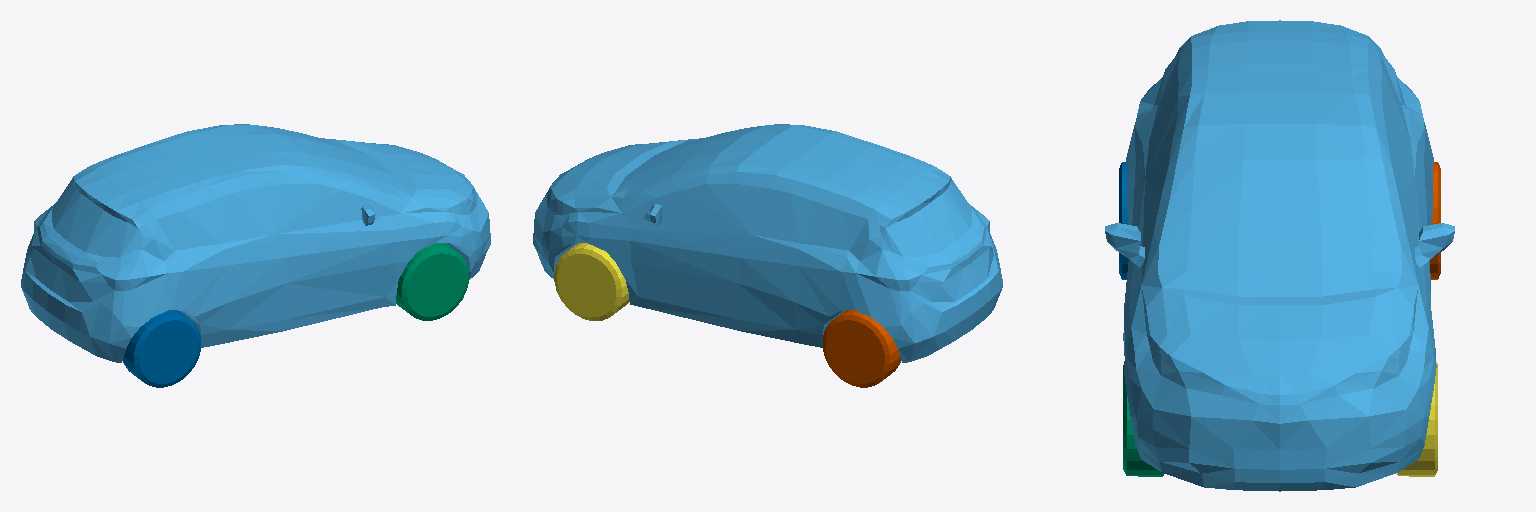
--- Facts derived from the render (not from the file) ---
The picture shows the robot from 3 angles, left to right: view 1: azimuth 30°, elevation 25°; view 2: azimuth 150°, elevation 25°; view 3: azimuth 270°, elevation 25°; orthographic projection.
Robot: zoe — 15 links, 14 joints (7 continuous, 7 fixed); root link zoe_odom_origin; default pose: all joints at 0.
Links seen in each view (by area): view 1: chassis, rear_right_wheel, front_right_wheel; view 2: chassis, rear_left_wheel, front_left_wheel; view 3: chassis, front_left_wheel, front_right_wheel, rear_left_wheel, rear_right_wheel.
Boxes of the visible links, x1,y1,x2,y2 form: chassis: (21,124,490,362); rear_right_wheel: (123,310,200,387); front_right_wheel: (396,243,468,320); chassis: (533,124,1002,362); rear_left_wheel: (823,310,900,387); front_left_wheel: (554,243,628,320); chassis: (1105,20,1454,491); front_left_wheel: (1397,362,1437,476); front_right_wheel: (1123,365,1163,476); rear_left_wheel: (1430,162,1440,279); rear_right_wheel: (1119,162,1128,279).
Size in the robot's own frame: 4.07 by 1.95 by 1.57 metres.
Meshes: 2 distinct files referenced, 5 mesh visuals loaded (2 Collada DAE).

robot.urdf — zoe:
<?xml version="1.0"?>
<robot name="zoe">

  <gazebo reference="front_left_wheel">
    <mu1>1.5</mu1>
    <mu2>1.5</mu2>
    <minDepth>0.02</minDepth>
    <kp>1e8</kp>
  </gazebo>
  <gazebo reference="front_right_wheel">
    <mu1>1.5</mu1>
    <mu2>1.5</mu2>
    <minDepth>0.02</minDepth>
    <kp>1e8</kp>
  </gazebo>
  <gazebo reference="rear_left_wheel">
    <mu1>1.5</mu1>
    <mu2>1.5</mu2>
    <minDepth>0.02</minDepth>
    <kp>1e8</kp>
  </gazebo>
  <gazebo reference="rear_right_wheel">
    <mu1>1.5</mu1>
    <mu2>1.5</mu2>
    <minDepth>0.02</minDepth>
    <kp>1e8</kp>
  </gazebo>

   <link name="base_link">
      <inertial>
         <mass value="0.1"/>
         <origin xyz="0 0 0"/>
         <inertia ixx="0.000904524377773" ixy="0.0" ixz="0.0" iyy="0.000904524377773" iyz="0.0" izz="0.0001423828125"/>
      </inertial>
   </link>

  <joint name="base_link_chassis_joint" type="continuous">
    <origin rpy="0 0 0" xyz="-1.95 0 0"/>
    <parent link="base_link"/>
    <child link="chassis"/>
            <axis xyz="1 0 0"/>
  </joint>

  <link name="chassis" >
            <inertial>
                  <mass value="880.3"/>
      <origin rpy=" 0 0 0" xyz="0 0 0.534"/>
      <inertia ixx="987.0" ixy="0.0" ixz="0.0" iyy="274.0" iyz="0.0" izz="1102.0"/>
    </inertial>

    <visual name="chassis_visual">
                  <origin rpy="0 0 1.570796327" xyz="0 0 0"/>
      <geometry>
            <mesh filename="package://experimental_package/models/zoe/meshes/ZoeWheelsLess.dae"/>
            </geometry>
    </visual>
            <!--<collision>
                  <origin rpy="0 0 1.570796327" xyz="0 0 0"/>
      <geometry>
            <mesh filename="package://experimental_package/models/zoe//meshes/ZoeWheelsLess.dae"/>
            </geometry>
    </collision>-->
  </link>

  <link name="front_right_wheel">
    <inertial>
      <mass value="10"/>
      <inertia ixx="0.58631238" ixy="0.0" ixz="0.0" iyy="0.33552910" iyz="0.0" izz="0.33552910"/>
    </inertial>
    <collision name="front_right_wheel_collision">
      <origin rpy="0 0 0" xyz="0 0 0"/>
                  <geometry>
                        <sphere radius="0.31045"/>
                  </geometry>
    </collision>
            <visual name="front_right_wheel_visual">
                  <origin rpy="1.57 0 0" xyz="0 0.125 0"/>
                  <geometry>
                        <mesh filename="package://experimental_package/models/zoe/meshes/car_wheel.dae"/>
                  </geometry>
            </visual>
  </link>

  <link name="front_left_wheel">
            <inertial>
                  <mass value="10"/>
                  <inertia ixx="0.58631238" ixy="0.0" ixz="0.0" iyy="0.33552910" iyz="0.0" izz="0.33552910"/>
            </inertial>
            <collision name="front_left_wheel_collision">
                  <origin rpy="0 0 0" xyz="0 0 0"/>
                  <geometry>
                        <sphere radius="0.31045"/>
                  </geometry>
            </collision>
            <visual name="front_left_wheel_visual">
                  <origin rpy="1.57 0 0" xyz="0 0.125 0"/>
                  <geometry>
                        <mesh filename="package://experimental_package/models/zoe/meshes/car_wheel.dae"/>
                  </geometry>
            </visual>
  </link>

  <link name="rear_right_wheel">
    <inertial>
      <mass value="10"/>
      <inertia ixx="0.58631238" ixy="0.0" ixz="0.0" iyy="0.33552910" iyz="0.0" izz="0.33552910"/>
    </inertial>
    <collision name="rear_right_wheel_collision">
      <origin rpy="0 0 0" xyz="0 0 0"/>
                  <geometry>
                        <sphere radius="0.31045"/>
                  </geometry>
    </collision>
    <visual name="rear_right_wheel_visual">
      <origin rpy="0.0 1.570700 -1.570700" xyz="0.0 0.1 0.0"/>
      <geometry>
        <mesh filename="package://experimental_package/models/zoe/meshes/car_wheel.dae"/>
      </geometry>
    </visual>
  </link>

  <link name="rear_left_wheel">
    <inertial>
      <mass value="10"/>
      <inertia ixx="0.58631238" ixy="0.0" ixz="0.0" iyy="0.33552910" iyz="0.0" izz="0.33552910"/>
    </inertial>
    <collision name="rear_left_wheel_collision">
      <origin rpy="0 0 0" xyz="0 0 0"/>
                  <geometry>
                        <sphere radius="0.31045"/>
                  </geometry>
    </collision>
    <visual name="rear_left_wheel_visual">
      <origin rpy="0.000000 1.570700 1.570700" xyz="0.0 -0.1 0.0"/>
      <geometry>
        <mesh filename="package://experimental_package/models/zoe/meshes/car_wheel.dae"/>
      </geometry>
    </visual>
  </link>


      <joint name="rear_left_spinning" type="continuous">
            <origin rpy="0 0 0" xyz="-3.334 0.755 0.31045"/>
            <parent link="base_link"/>
            <child link="rear_left_wheel"/>
            <axis xyz="0.0 1.0 0.0"/>
      </joint>

      <joint name="rear_right_spinning" type="continuous">
            <origin rpy="0 0 0" xyz="-3.334 -0.755 0.31045"/>
            <parent link="base_link"/>
            <child link="rear_right_wheel"/>
            <axis xyz="0.0 1.0 0.0"/>
      </joint>

      <joint name="front_right_spinning" type="continuous">
            <origin rpy="0 0 0" xyz="0 0.0 0"/>
            <parent link="right_axis"/>
            <child link="front_right_wheel"/>
            <axis xyz="0 1 0"/>
      </joint>
      <joint name="front_left_spinning" type="continuous">
            <origin rpy="0 0 0" xyz="0 0.0 0"/>
            <parent link="left_axis"/>
            <child link="front_left_wheel"/>
            <axis xyz="0 1 0"/>
      </joint>

      <joint name="right_steering" type="continuous">
            <origin xyz="-0.746 -0.755 0.31045" rpy="0 0 0"/>
            <parent link="base_link"/>
            <child link="right_axis"/>
            <axis xyz="0 0 1"/>
            <limit lower="-1.0" upper="1.0" effort="10000000" velocity="1000000"/>
            <dynamics damping="50"/>
      </joint>
  <joint name="left_steering" type="continuous">
    <origin xyz="-0.746 0.755 0.31045" rpy="0 0 0"/>
    <parent link="base_link"/>
    <child link="left_axis"/>
    <axis xyz="0 0 1"/>
    <limit lower="-1.0" upper="1.0" effort="10000000" velocity="1000000"/>
            <dynamics damping="50"/>
  </joint>

      <link name="left_axis">
    <origin rpy="1.57 0 0" xyz="0 0 0"/>
    <visual name="front_visual">
      <origin rpy="1.57 0 0" xyz="0 0 0"/>
      <geometry name="front_geometry">
        <cylinder length="0.10" radius="0.016875"/>
      </geometry>
      <material name="blue"/>
    </visual>
    <inertial>
      <mass value="0.1"/>
      <origin xyz="0 0 0"/>
      <inertia ixx="0.000904524377773" ixy="0.0" ixz="0.0" iyy="0.000904524377773" iyz="0.0" izz="0.0001423828125"/>
    </inertial>
  </link>

      <link name="right_axis">
    <origin rpy="1.57 0 0" xyz="0 0 0"/>
    <visual name="front_visual">
      <origin rpy="1.57 0 0" xyz="0 0 0"/>
      <geometry name="front_geometry">
        <cylinder length="0.10" radius="0.016875"/>
      </geometry>
      <material name="blue"/>
    </visual>
    <inertial>
      <mass value="0.1"/>
      <origin xyz="0 0 0"/>
      <inertia ixx="0.000904524377773" ixy="0.0" ixz="0.0" iyy="0.000904524377773" iyz="0.0" izz="0.0001423828125"/>
    </inertial>
  </link>

      <gazebo reference="base_link_chassis_joint">
    <disableFixedJointLumping>true</disableFixedJointLumping>
  </gazebo>

      <gazebo>
            <plugin name="zoe_model" filename="libzoe_model.so">
                  <!-- Physical parameters -->
                  <vehicle_length>2.588</vehicle_length>
                  <vehicle_width>1.510</vehicle_width>
                  <actuatedWheelDiameter>0.6209</actuatedWheelDiameter>
                  <encoderWheelDiameter>0.6209</encoderWheelDiameter>
                  <encoderWheelSeparation>1.6</encoderWheelSeparation>
                  <steeringAngleLimit>0.52</steeringAngleLimit>

                  <!-- Dynamic parameters -->
                  <SpinningTorque>10000000</SpinningTorque>
      <SteeringTorque>10000000</SteeringTorque>
                  <MaxBrakeStrength>3000000.0</MaxBrakeStrength>

                  <!-- Software parameters -->
                  <controlMode>torque</controlMode>
                  <rosDebugLevel>Info</rosDebugLevel>
                  <updateRate>200.0</updateRate>
                  <publishWheelJointState>true</publishWheelJointState>
                  <publishWheelTF>false</publishWheelTF>
                  <odometrySource>world</odometrySource>

                  <!-- Topics -->
                  <odometryTopic>odom</odometryTopic>
                  <commandTopic>/zoe/control/refs</commandTopic>

                  <!-- Frames -->
                  <odometryFrame>map</odometryFrame>
                  <absolutePosition>worldPose</absolutePosition>
                  <robotBaseFrame>zoe/zoe_odom_origin</robotBaseFrame>

                  <!-- Links to reach objects -->
                  <steeringLeft>zoe::left_steering</steeringLeft>
                  <spinningLeft>zoe::front_left_spinning</spinningLeft>
                  <steeringRight>zoe::right_steering</steeringRight>
                  <spinningRight>zoe::front_right_spinning</spinningRight>
                  <encoderWheelLeftJoint>zoe::rear_left_spinning</encoderWheelLeftJoint>
                  <encoderWheelRightJoint>zoe::rear_right_spinning</encoderWheelRightJoint>
            </plugin>

            <selfCollide>false</selfCollide>
      </gazebo>

      <link name="zoe_odom_origin">
            <inertial>
                  <origin rpy="0 0 0" xyz="0 0 0"/>
                  <mass value="0.1"/>
                  <inertia ixx="0.000904524377773" ixy="0.0" ixz="0.0" iyy="0.000904524377773" iyz="0.0" izz="0.0001423828125"/>
            </inertial>
      </link>
      <joint name="control_frame_positionning" type="fixed">
            <origin rpy="0 0 0" xyz="3.334 0 -0.31045"/>
            <parent link="zoe_odom_origin"/>
            <child link="base_link"/>
      </joint>

      <link name="lux_center">
            <inertial>
                  <origin rpy="0 0 0" xyz="0 0 0"/>
                  <mass value="0.1"/>
                  <inertia ixx="0.000904524377773" ixy="0.0" ixz="0.0" iyy="0.000904524377773" iyz="0.0" izz="0.0001423828125"/>
            </inertial>
      </link>
      <joint name="front_center_sensor_positionning" type="fixed">
            <origin rpy="0 0 0.016" xyz="0 0 0.36"/>
            <parent link="base_link"/>
            <child link="lux_center"/>
      </joint>

      <link name="lux_right">
            <inertial>
                  <origin rpy="0 0 0" xyz="0 0 0"/>
                  <mass value="0.1"/>
                  <inertia ixx="0.000904524377773" ixy="0.0" ixz="0.0" iyy="0.000904524377773" iyz="0.0" izz="0.0001423828125"/>
            </inertial>
      </link>
      <joint name="front_right_sensor_positionning" type="fixed">
            <origin rpy="0 0 -0.662" xyz="-0.15 -0.63 0.38"/>
            <parent link="base_link"/>
            <child link="lux_right"/>
      </joint>

      <link name="lux_left">
            <inertial>
                  <origin rpy="0 0 0" xyz="0 0 0"/>
                  <mass value="0.1"/>
                  <inertia ixx="0.000904524377773" ixy="0.0" ixz="0.0" iyy="0.000904524377773" iyz="0.0" izz="0.0001423828125"/>
            </inertial>
      </link>
      <joint name="front_left_sensor_positionning" type="fixed">
            <origin rpy="0 0 0.718" xyz="-0.2 0.53 0.38"/>
            <parent link="base_link"/>
            <child link="lux_left"/>
      </joint>

      <link name="lux_rear">
            <inertial>
                  <origin rpy="0 0 0" xyz="0 0 0"/>
                  <mass value="0.1"/>
                  <inertia ixx="0.000904524377773" ixy="0.0" ixz="0.0" iyy="0.000904524377773" iyz="0.0" izz="0.0001423828125"/>
            </inertial>
      </link>
      <joint name="rear_center_sensor_positionning" type="fixed">
            <origin rpy="0 0 -3.083" xyz="-3.934 0 0.5"/>
            <parent link="base_link"/>
            <child link="lux_rear"/>
      </joint>

      <link name="velodyne">
            <inertial>
                  <origin rpy="0 0 0" xyz="0 0 0"/>
                  <mass value="0.1"/>
                  <inertia ixx="0.000904524377773" ixy="0.0" ixz="0.0" iyy="0.000904524377773" iyz="0.0" izz="0.0001423828125"/>
            </inertial>
      </link>
      <joint name="velodyne_positionning" type="fixed">
            <origin rpy="0 0.015 0.013" xyz="-2.35 0 1.75"/>
            <parent link="base_link"/>
            <child link="velodyne"/>
      </joint>

      <gazebo reference="velodyne">
            <sensor type="ray" name="velodyne">
                  <pose>0 0 0 0 0 0</pose>
                  <visualize>false</visualize>
                  <update_rate>20.0</update_rate>
                  <plugin name="velodyne_data" filename="libgazebo_laser_pointcloud2.so">
                        <updateRate>20.0</updateRate>
                        <frameName>zoe/velodyne</frameName>
                        <topicName>/zoe/velodyne_points</topicName>
                  </plugin>
                  <ray>
                        <scan>
                              <horizontal>
                                    <samples>2251</samples>
                                    <!--samples>564</samples-->
                                    <resolution>1.0</resolution>
                                    <min_angle>-3.14</min_angle>
                                    <max_angle>3.14</max_angle>
                              </horizontal>
                              <vertical>
                                    <!--samples>64</samples-->
                                    <samples>16</samples>
                                    <resolution>1.0</resolution>
                                    <min_angle>-0.434366667</min_angle>
                                    <max_angle>0.034888889</max_angle>
                              </vertical>
                        </scan>
                        <range>
                              <min>0.05</min>
                              <max>120.0</max>
                              <resolution>0.01</resolution>
                        </range>
                  </ray>
            </sensor>
      </gazebo>

      <gazebo reference="lux_center">
            <sensor type="ray" name="front_center_sensor">
                  <pose>0 0 0 0 0 0</pose>
                  <visualize>false</visualize>
                  <update_rate>25.0</update_rate>
                  <plugin name="front_center_sensor_data" filename="libgazebo_laser_pointcloud2.so">
                        <updateRate>25.0</updateRate>
                        <frameName>zoe/lux_center</frameName>
                        <topicName>/zoe/lux_center</topicName>
                  </plugin>
                  <ray>
                        <scan>
                              <horizontal>
                                    <samples>201</samples>
                                    <resolution>1.0</resolution>
                                    <min_angle>-0.872664630413</min_angle>
                                    <max_angle>0.872664630413</max_angle>
                              </horizontal>
                              <vertical>
                                    <samples>4</samples>
                                    <resolution>1.0</resolution>
                                    <min_angle>-0.012217</min_angle>
                                    <max_angle>0.00872654</max_angle>
                              </vertical>
                        </scan>
                        <range>
                              <min>0.05</min>
                              <max>150.0</max>
                              <resolution>0.01</resolution>
                        </range>
                  </ray>
            </sensor>
      </gazebo>

      <gazebo reference="lux_left">
            <sensor type="ray" name="front_left_sensor">
                  <pose>0 0 0 0 0 0</pose>
                  <visualize>false</visualize>
                  <update_rate>25.0</update_rate>
                  <plugin name="front_left_sensor_data" filename="libgazebo_laser_pointcloud2.so">
                        <updateRate>25.0</updateRate>
                        <frameName>zoe/lux_left</frameName>
                        <topicName>/zoe/lux_left</topicName>
                  </plugin>
                  <ray>
                        <scan>
                              <horizontal>
                                    <samples>201</samples>
                                    <resolution>1.0</resolution>
                                    <min_angle>-0.872664630413</min_angle>
                                    <max_angle>0.872664630413</max_angle>
                              </horizontal>
                              <vertical>
                                    <samples>4</samples>
                                    <resolution>1.0</resolution>
                                    <min_angle>-0.012217</min_angle>
                                    <max_angle>0.00872654</max_angle>
                              </vertical>
                        </scan>
                        <range>
                              <min>0.05</min>
                              <max>150.0</max>
                              <resolution>0.01</resolution>
                        </range>
                  </ray>
            </sensor>
      </gazebo>

      <gazebo reference="lux_right">
            <sensor type="ray" name="front_right_sensor">
                  <pose>0 0 0 0 0 0</pose>
                  <visualize>false</visualize>
                  <update_rate>25.0</update_rate>
                  <plugin name="front_right_sensor_data" filename="libgazebo_laser_pointcloud2.so">
                        <updateRate>25.0</updateRate>
                        <frameName>zoe/lux_right</frameName>
                        <topicName>/zoe/lux_right</topicName>
                  </plugin>
                  <ray>
                        <scan>
                              <horizontal>
                                    <samples>201</samples>
                                    <resolution>1.0</resolution>
                                    <min_angle>-0.872664630413</min_angle>
                                    <max_angle>0.872664630413</max_angle>
                              </horizontal>
                              <vertical>
                                    <samples>4</samples>
                                    <resolution>1.0</resolution>
                                    <min_angle>-0.012217</min_angle>
                                    <max_angle>0.00872654</max_angle>
                              </vertical>
                        </scan>
                        <range>
                              <min>0.05</min>
                              <max>150.0</max>
                              <resolution>0.01</resolution>
                        </range>
                  </ray>
            </sensor>
      </gazebo>

      <gazebo reference="lux_rear">
            <sensor type="ray" name="rear_center_sensor">
                  <pose>0 0 0 0 0 0</pose>
                  <visualize>false</visualize>
                  <update_rate>25.0</update_rate>
                  <plugin name="rear_center_sensor_data" filename="libgazebo_laser_pointcloud2.so">
                        <updateRate>25.0</updateRate>
                        <frameName>zoe/lux_rear</frameName>
                        <topicName>/zoe/lux_rear</topicName>
                  </plugin>
                  <ray>
                        <scan>
                              <horizontal>
                                    <samples>201</samples>
                                    <resolution>1.0</resolution>
                                    <min_angle>-0.872664630413</min_angle>
                                    <max_angle>0.872664630413</max_angle>
                              </horizontal>
                              <vertical>
                                    <samples>4</samples>
                                    <resolution>1.0</resolution>
                                    <min_angle>-0.012217</min_angle>
                                    <max_angle>0.00872654</max_angle>
                              </vertical>
                        </scan>
                        <range>
                              <min>0.05</min>
                              <max>150.0</max>
                              <resolution>0.01</resolution>
                        </range>
                  </ray>
            </sensor>
      </gazebo>

      <?needbase
            <!-- GPS plugin -->
      <!-- Hector Gazebo GPS plugin is used. See http://wiki.ros.org/hector_gazebo_plugins -->
      <!-- To install use: -->
      <!-- $ sudo apt-get install ros-DISTRIBUTION-hector-gazebo-plugins -->
      <link name="gps">
            <inertial>
                  <origin rpy="0 0 0" xyz="0 0 0"/>
                  <mass value="0.1"/>
                  <inertia ixx="0.000904524377773" ixy="0.0" ixz="0.0" iyy="0.000904524377773" iyz="0.0" izz="0.0001423828125"/>
            </inertial>
      </link>
      <joint name="gps_position" type="fixed">
            <origin rpy="0 0.00 0.00" xyz="-3.34 0 0.34"/>
            <parent link="base_link"/>
            <child link="gps"/>
      </joint>

      <gazebo> <!--reference="gps"> -->
            <plugin name="gps_data" filename="libhector_gazebo_ros_gps.so">
                <alwayson>true</alwayson>
                <updateRate>10</updateRate>
                <bodyName>gps</bodyName>
                <frameId>zoe/base_imu</frameId>
                <referenceLatitude>48.625867</referenceLatitude>
                <referenceLongitude>1.796803</referenceLongitude>
                <referenceHeading>90</referenceHeading><!-- geographic heading(North) of gazebo frame's x axis in degrees, we are following enu coordinate system. North is at 90 degrees of x axiss -->
                <topicName>/zoe/fix</topicName>
                <velocityTopicName>/zoe/fix_velocity</velocityTopicName>
                <!-- <drift>0 0 0</drift>
                <gaussiannoise>0 0.0 0.0</gaussiannoise> -->
                <drift>0.0 0.0 0.0</drift>
                <gaussianNoise>0.0 0.0 0.0</gaussianNoise>
                <velocityDrift>0.0 0.0 0.0</velocityDrift>
                <velocityGaussianNoise>0.0 0.0 0.0</velocityGaussianNoise>
            </plugin>
      </gazebo>
      ?>


            <!-- Camera plugin-->
      <joint name="camera_joint" type="fixed">
        <axis xyz="1 0 0" />
        <origin xyz="-1.62 0.05 1.35" rpy="0. 0. 0."/>
        <parent link="base_link"/>
        <child link="camera_link"/>
      </joint>

      <link name="camera_link">
      <visual>
      <origin xyz="0 0 0" rpy="0 0 0"/>
      <geometry>
        <box size="0.05 0.05 0.05"/>
      </geometry>
      <material name="red"/>
      </visual>
      </link>

      <gazebo reference="camera_link">
        <sensor type="camera" name="camera_front">
          <pose>0 0 0 0 0 0</pose>
          <update_rate>30.0</update_rate>
          <camera name="head">
            <horizontal_fov>1.26</horizontal_fov>
            <image>
                <height>1024</height>
                <width>1280</width>
                <format>R8G8B8</format>
              </image>
            <clip>
                <near>0.02</near>
                <far>300</far>
            </clip>
            <distortion>
            <center> 0.8 0.5</center>
            </distortion>
          </camera>
            <plugin name="camera_controller" filename="libgazebo_ros_camera.so">
              <alwaysOn>true</alwaysOn>
              <updateRate>0.0</updateRate>
              <cameraName>zoe/camera_front</cameraName>
              <imageTopicName>image_color/raw</imageTopicName>
              <cameraInfoTopicName>camera_info</cameraInfoTopicName>
              <frameName>/zoe/camera_front</frameName>
              <hackBaseline>0.07</hackBaseline>
              <distortionK1>0.0</distortionK1>
              <distortionK2>0.0</distortionK2>
              <distortionK3>0.0</distortionK3>
              <distortionT1>0.0</distortionT1>
              <distortionT2>0.0</distortionT2>
            </plugin>
          </sensor>
      </gazebo>

</robot>
